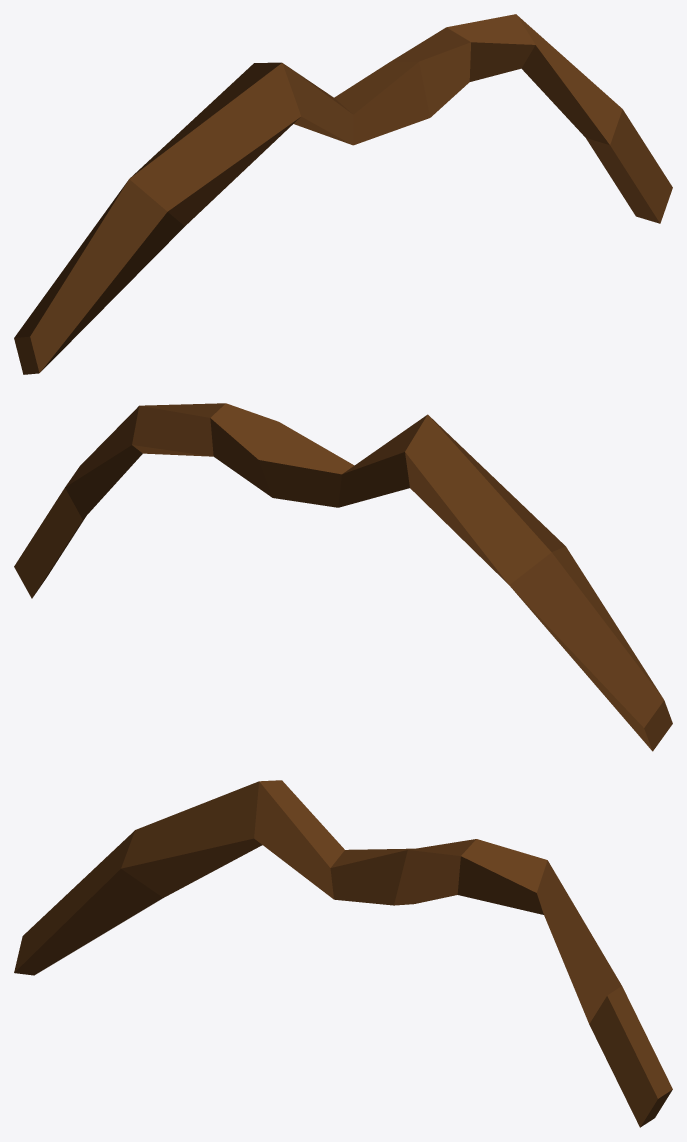
The model's file is branch2.fbx.
3 views of the same model, one above another, from view 1: azimuth 30°, elevation 25°; view 2: azimuth 150°, elevation 25°; view 3: azimuth 330°, elevation 25° (orthographic).
Parts seen in each view (by area): view 1: Cube; view 2: Cube; view 3: Cube.
Part boxes in pixels (left/top/right/bottom): Cube: left=14, top=14, right=672, bottom=374; Cube: left=14, top=403, right=672, bottom=751; Cube: left=14, top=780, right=672, bottom=1127.
Size of the model in its own units: 2527 by 1004 by 342.
